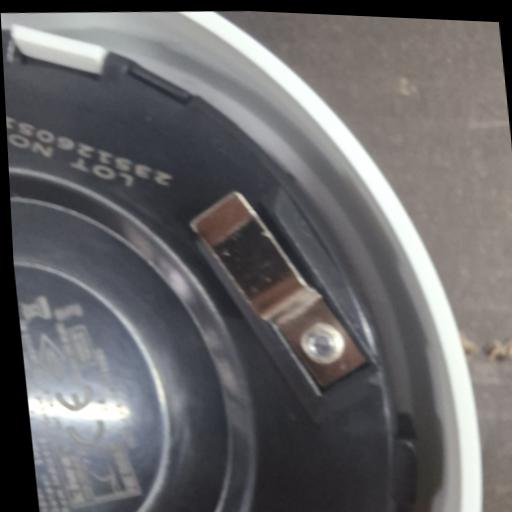yaysiz: (185, 182, 371, 400)
